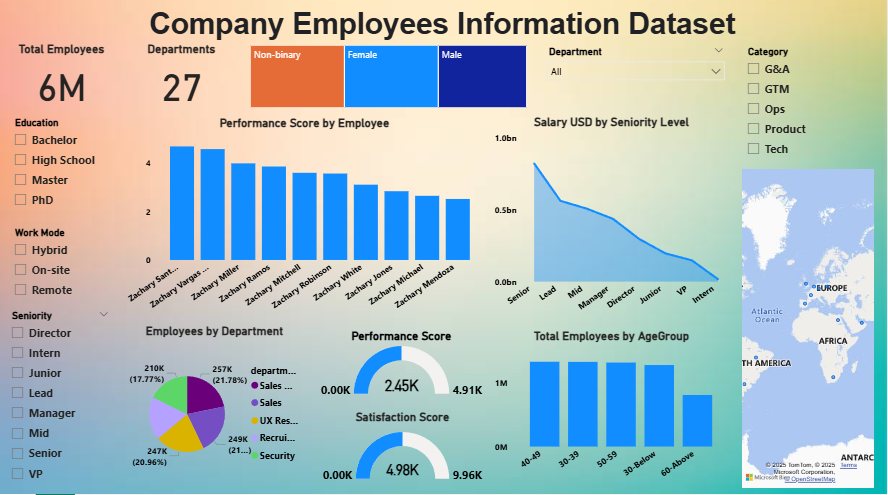

The page's visual inventory and layout, read from the dashboard file:
{"tool":"powerbi","page":{"name":"Page 1","canvas":[1280,720],"ordinal":0},"visuals":[{"type":"textbox","box":[10.1,13.4,1256.5,79],"z":0},{"type":"card","title":"Total Employees","fields":{"Values":["employees.Total Employees"]},"box":[10.1,69.1,159.8,99.4],"z":1},{"type":"card","title":"Departments","fields":{"Values":["Count(departments.department)"]},"box":[182.9,69.1,159.8,99.4],"z":2},{"type":"treemap","fields":{"Group":["employees.gender"],"Values":["employees.Total Employees"]},"box":[357.1,69.1,407.5,99.4],"z":3},{"type":"slicer","fields":{"Values":["employees.education"]},"box":[10.1,171.4,159.8,152.6],"z":4},{"type":"slicer","fields":{"Values":["employees.seniority"]},"box":[5.8,449.3,164.2,266.4],"z":5},{"type":"slicer","fields":{"Values":["employees.work_mode"]},"box":[10.1,329.8,159.8,116.6],"z":6},{"type":"slicer","fields":{"Values":["departments.category"]},"box":[1065.6,69.1,201.6,174.2],"z":7},{"type":"slicer","fields":{"Values":["departments.department"]},"box":[779,69.1,276.5,99.4],"z":8},{"type":"map","fields":{"Category":["locations.country"]},"box":[1065.6,247.7,200.2,468],"z":9},{"type":"gauge","title":"Performance Score","fields":{"Y":["Sum(employees.performance_score)"]},"box":[453.6,482.4,252,103.7],"z":10},{"type":"clusteredColumnChart","fields":{"Category":["employees.AgeGroup"],"Y":["employees.Total Employees"]},"box":[708.5,482.4,347,233.3],"z":11},{"type":"gauge","title":"Satisfaction Score","fields":{"Y":["Sum(employees.satisfaction_score)"]},"box":[456.5,599,249.1,116.6],"z":12},{"type":"areaChart","title":"Salary USD by Seniority Level","fields":{"Y":["Sum(salaries_annual csv.salary_usd)"],"Category":["salaries_annual csv.seniority_level"]},"box":[708.5,174.2,347,301],"z":13},{"type":"pieChart","title":"Employees by Department","fields":{"Category":["departments.department"],"Y":["employees.Total Employees"]},"box":[174.2,475.2,272.2,240.5],"z":14},{"type":"clusteredColumnChart","title":"Performance Score by Employee","fields":{"Category":["employees.name"],"Y":["Sum(employees.performance_score)"]},"box":[178.6,175.7,522.7,292.3],"z":15}]}

Visuals, with their boxes in screenshot pixels (x1, y1, x2, y2), scaled from the page's 1280x720 canvas onto the 888x495 screenshot:
textbox: <region>7, 9, 879, 64</region>
"Total Employees" card: <region>7, 48, 118, 116</region>
"Departments" card: <region>127, 48, 238, 116</region>
treemap - employees.gender x employees.Total Employees: <region>248, 48, 530, 116</region>
slicer - employees.education: <region>7, 118, 118, 223</region>
slicer - employees.seniority: <region>4, 309, 118, 492</region>
slicer - employees.work_mode: <region>7, 227, 118, 307</region>
slicer - departments.category: <region>739, 48, 879, 167</region>
slicer - departments.department: <region>540, 48, 732, 116</region>
map - locations.country: <region>739, 170, 878, 492</region>
"Performance Score" gauge: <region>315, 332, 490, 403</region>
clusteredColumnChart - employees.AgeGroup x employees.Total Employees: <region>492, 332, 732, 492</region>
"Satisfaction Score" gauge: <region>317, 412, 490, 492</region>
"Salary USD by Seniority Level" areaChart: <region>492, 120, 732, 327</region>
"Employees by Department" pieChart: <region>121, 327, 310, 492</region>
"Performance Score by Employee" clusteredColumnChart: <region>124, 121, 487, 322</region>
